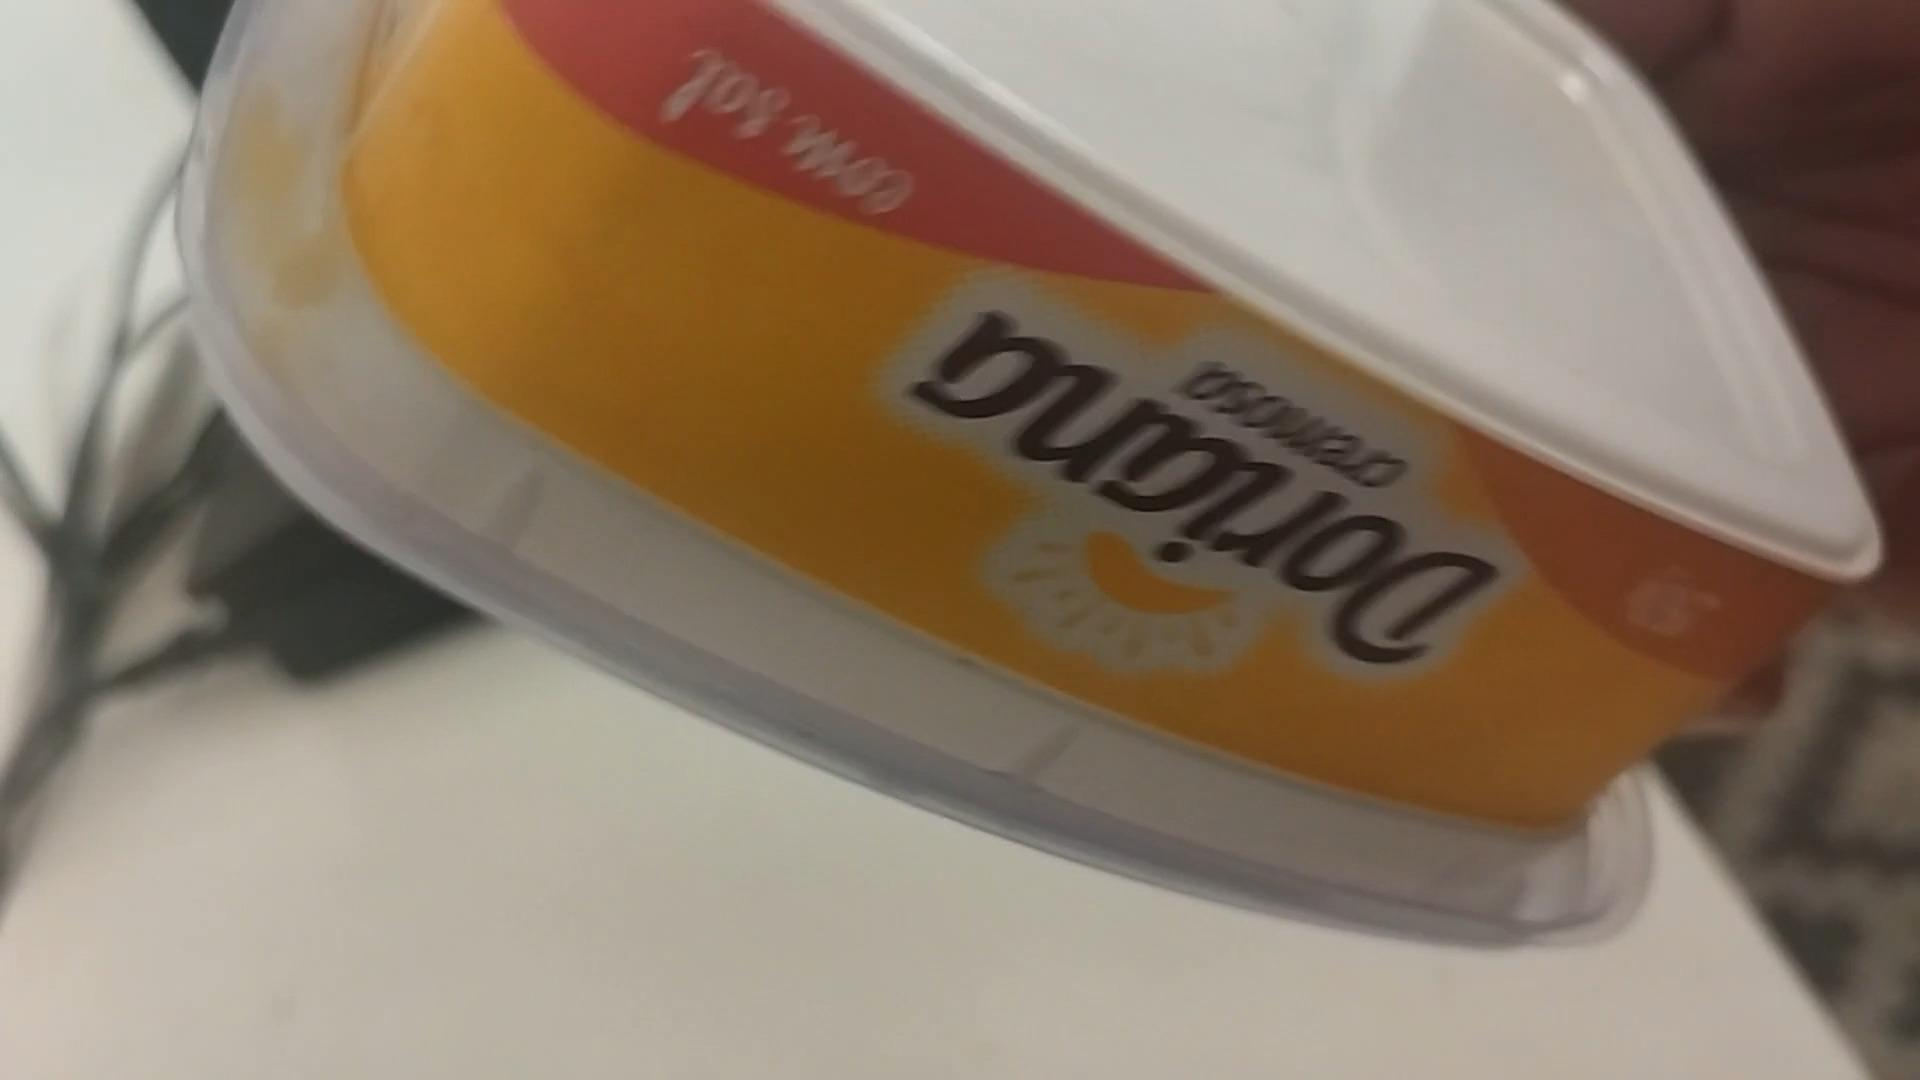butter: (193, 13, 1876, 935)
